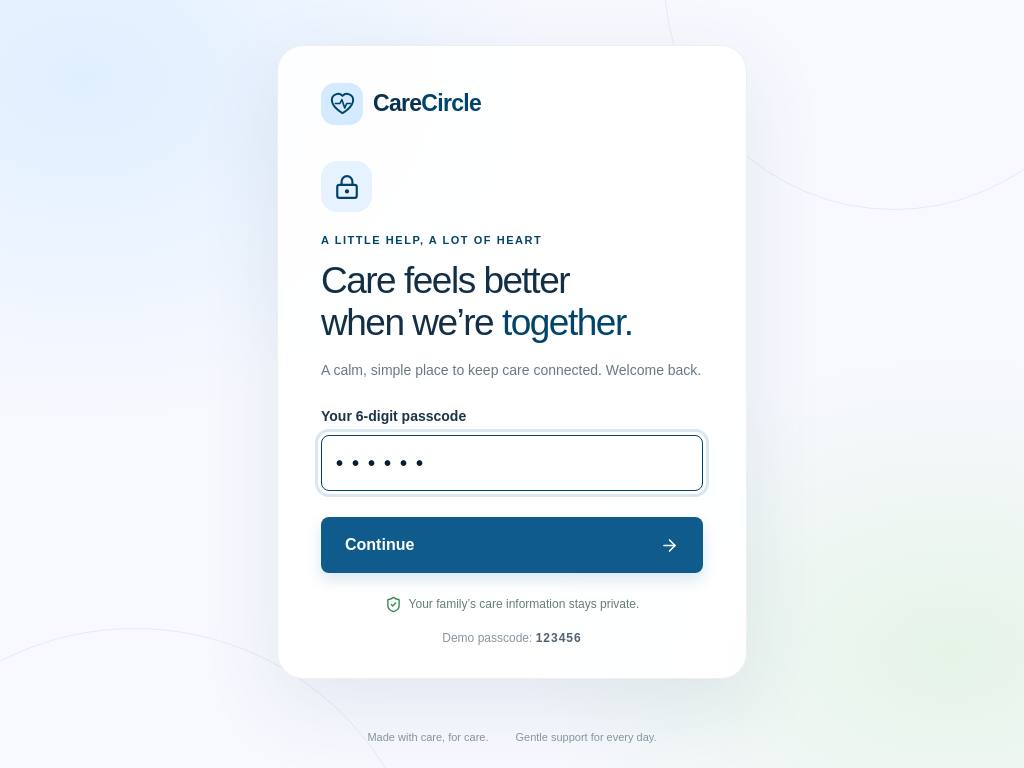
Test: passcode and role access › locks for sixty seconds after five incorrect attempts
The width and height of the screenshot is (1024, 768).
Earlier steps of the test are not shown.
Click the button "Continue" at x=380, y=545, box [321,517,703,573]
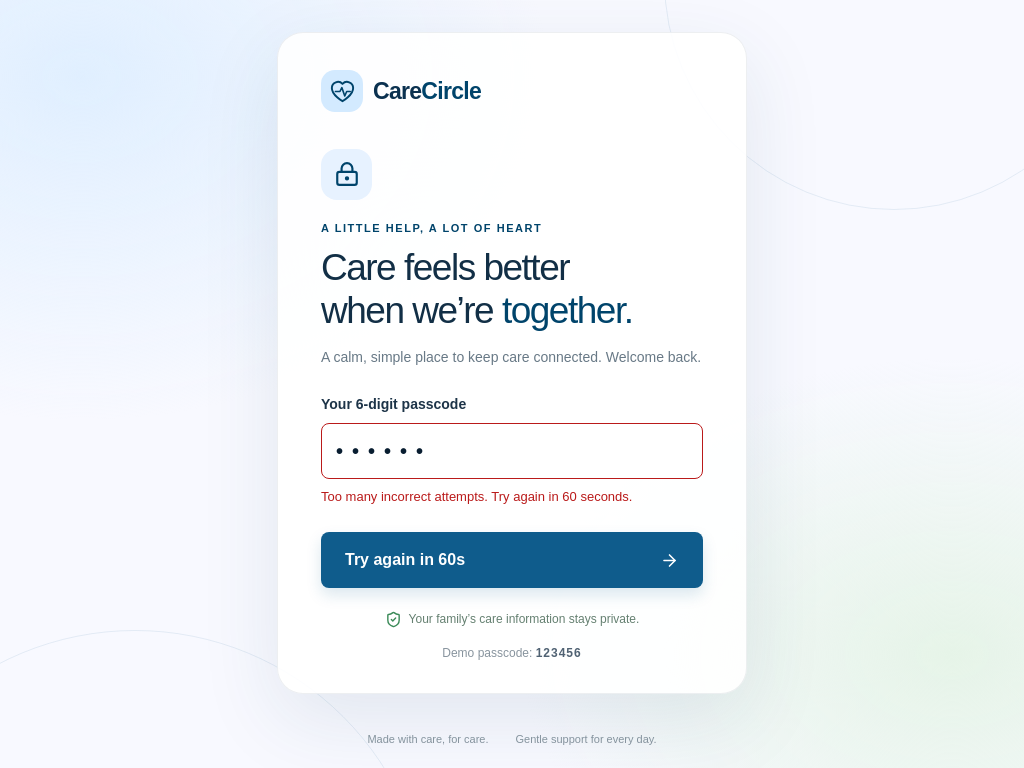
Now the text "Too many incorrect attempts. Try again in 60 seconds." is shown, box [321,489,632,504]
Now the button "Try again in 60s" is disabled, box [321,532,703,588]
